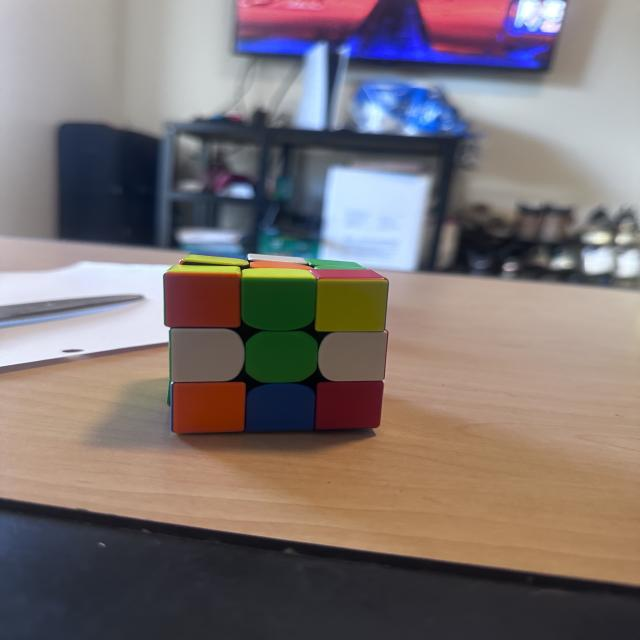sticker: (162, 264, 245, 330), (240, 268, 318, 332), (313, 269, 390, 333), (167, 326, 248, 384), (169, 380, 250, 435), (244, 329, 321, 385), (315, 328, 391, 384), (312, 379, 387, 433), (245, 382, 318, 433), (178, 254, 248, 267), (310, 267, 384, 279), (247, 260, 313, 270), (307, 259, 365, 270)
